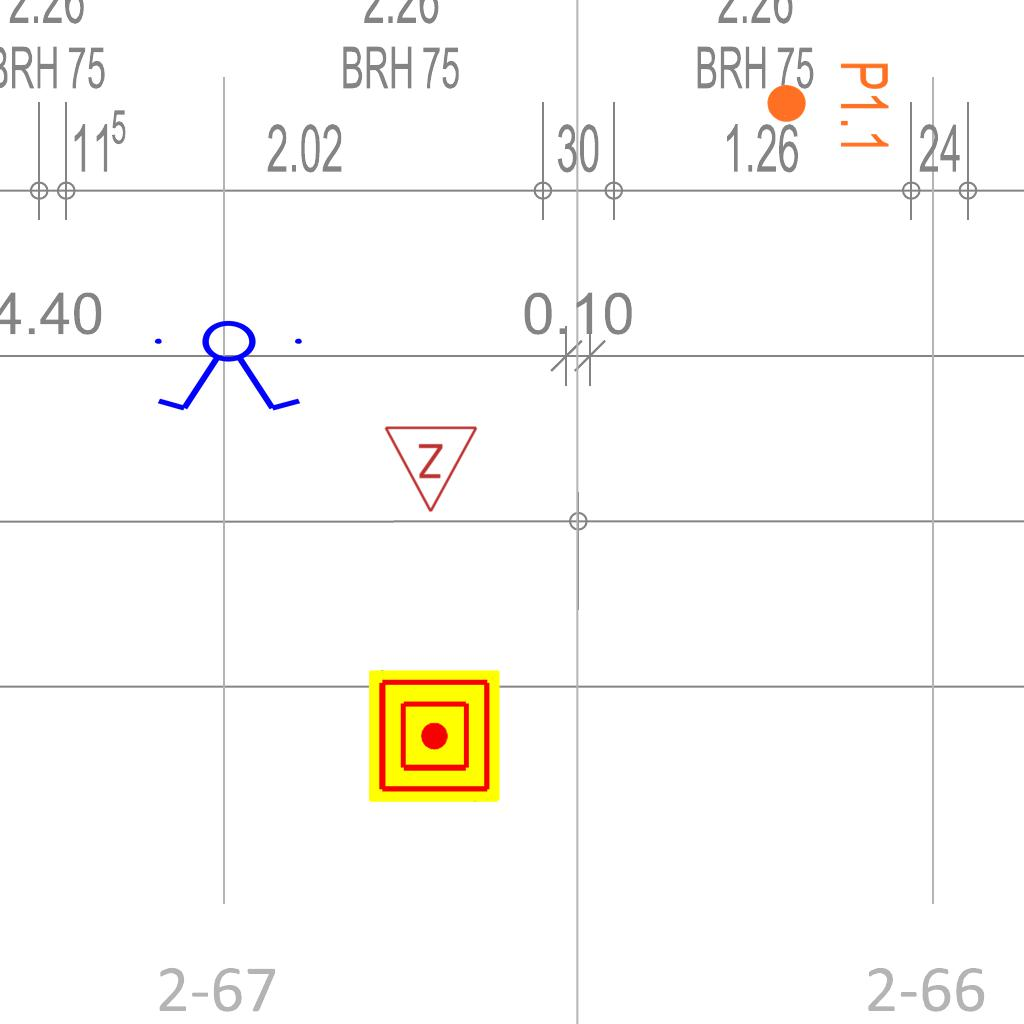Downlight_LED_Einbauleuchten_Flur: (764, 60, 892, 153)
NAM-Nichtautomatischer_Melder: (368, 670, 500, 802)
Serienschalter: (146, 319, 314, 415)
Zimmersignalleuchte: (383, 419, 481, 519)
